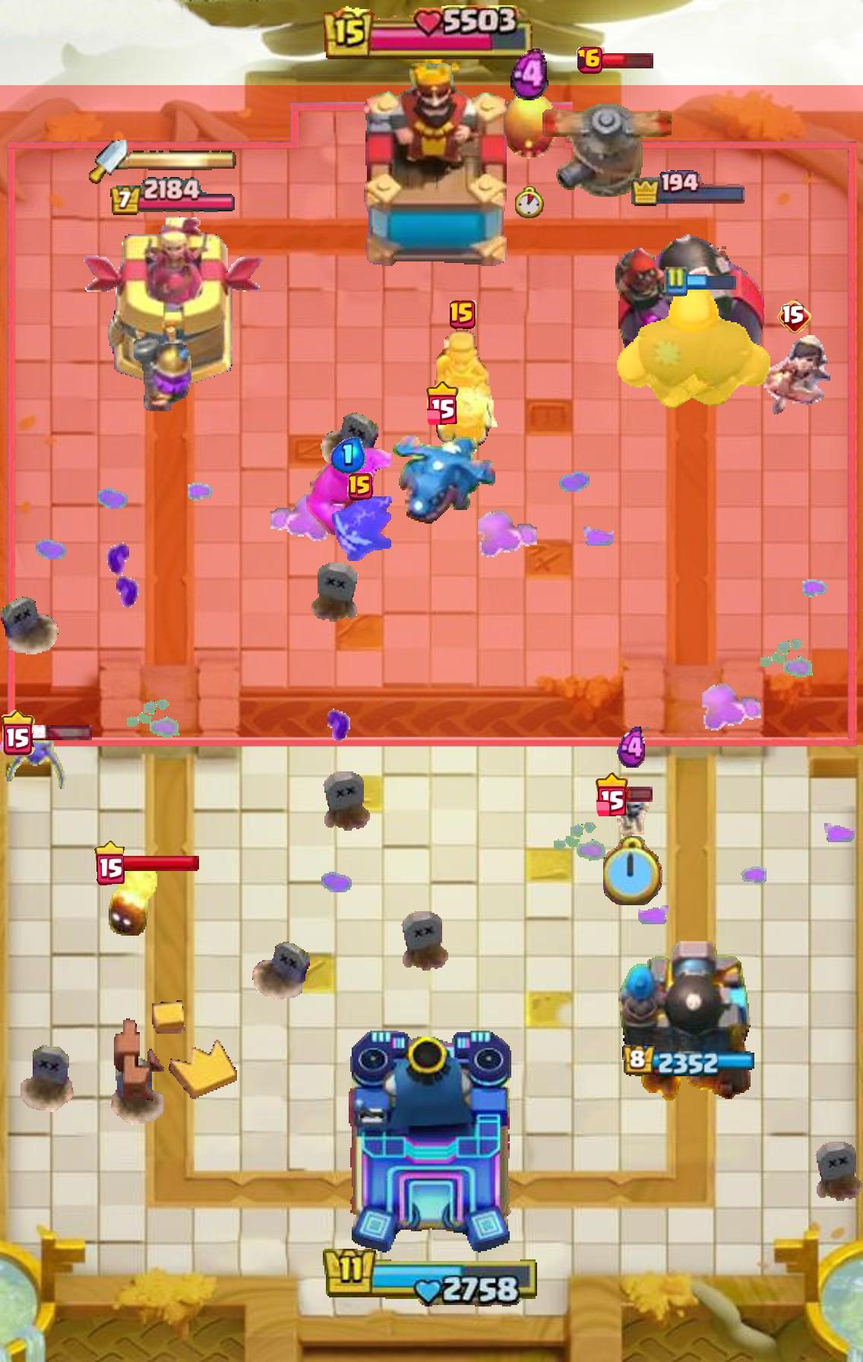elixir: (511, 49, 548, 102), (617, 726, 649, 770), (331, 437, 366, 474)
musketeer: (134, 317, 191, 411)
